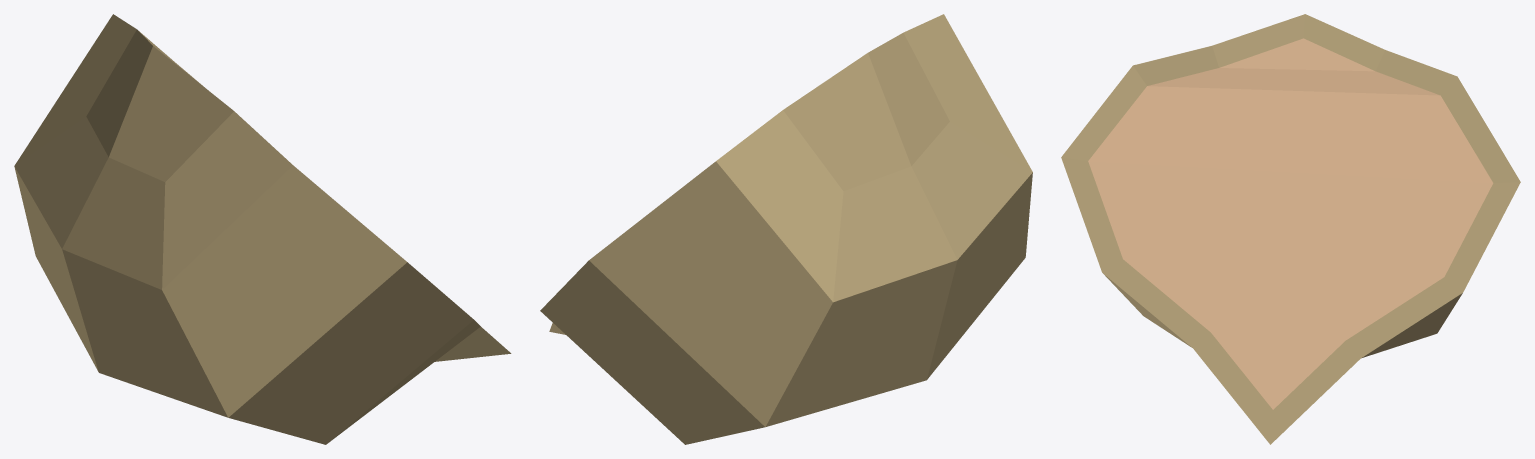
Rendered from onionYellowHalf.fbx.
3 renders of one model, left to right at view 1: azimuth 30°, elevation 25°; view 2: azimuth 150°, elevation 25°; view 3: azimuth 270°, elevation 25°, orthographic. The views are drawn at different scales.
Parts seen in each view (by area): view 1: onionYellowHalf; view 2: onionYellowHalf; view 3: onionYellowHalf.
Part boxes in pixels (<box>): onionYellowHalf: <box>14,14,511,444</box>; onionYellowHalf: <box>540,14,1032,444</box>; onionYellowHalf: <box>1061,14,1520,444</box>.
Size of the model in its own units: 6.13 by 5.14 by 7.14.
1 material, 1 textured.
